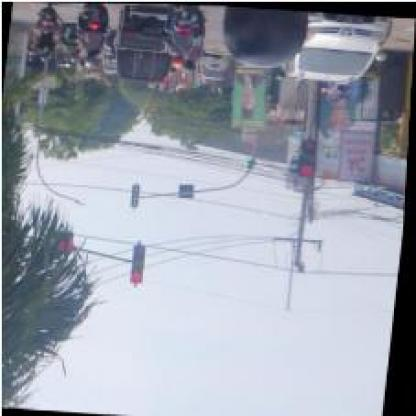red: (131, 243, 148, 281), (300, 137, 316, 175)
